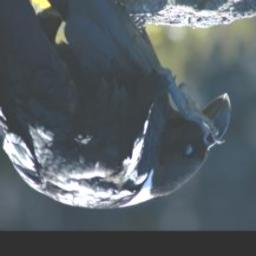Crow: (1, 0, 235, 210)
